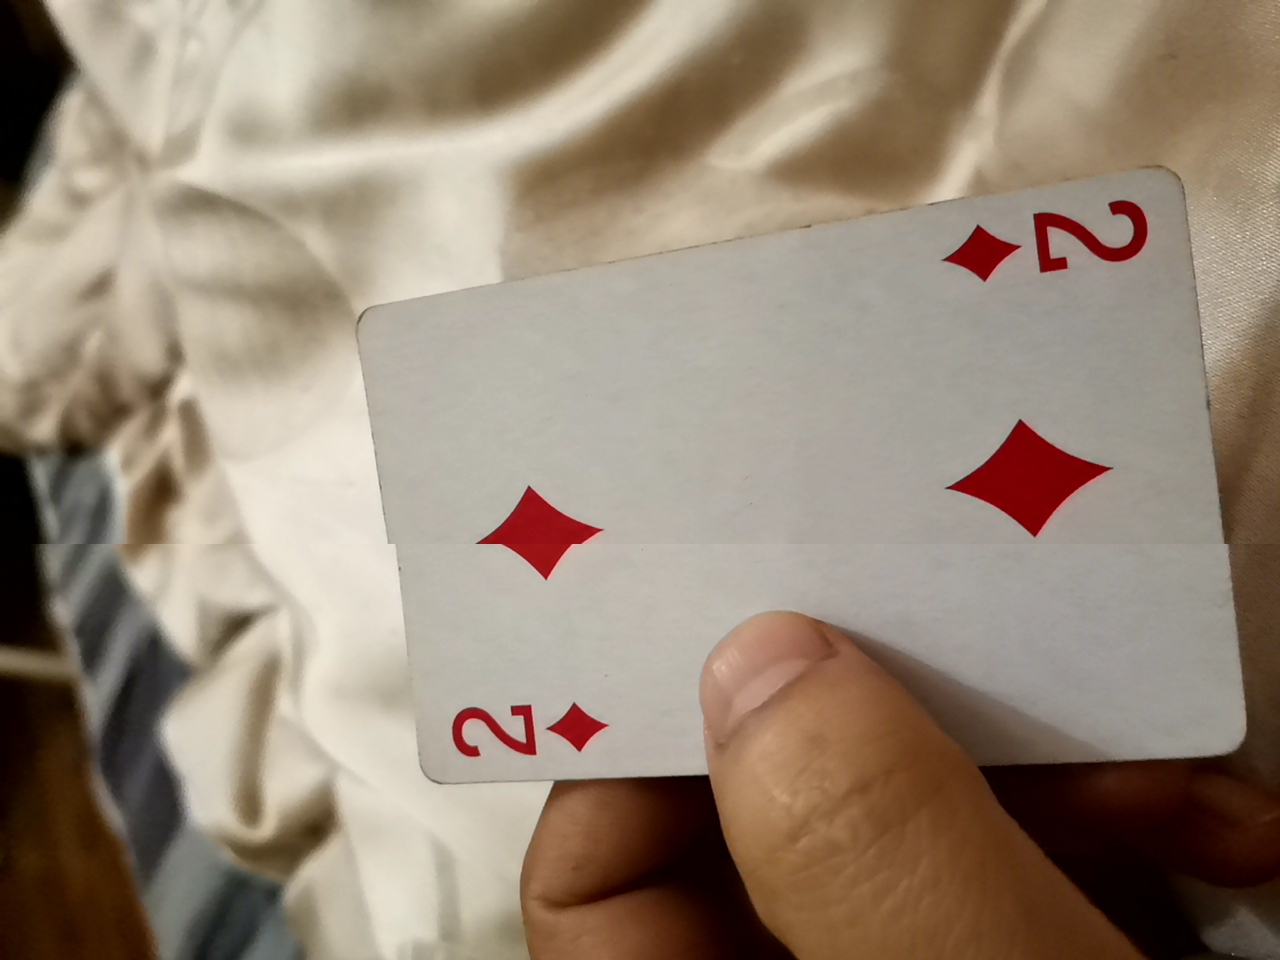fk 2: (324, 165, 1249, 822)
